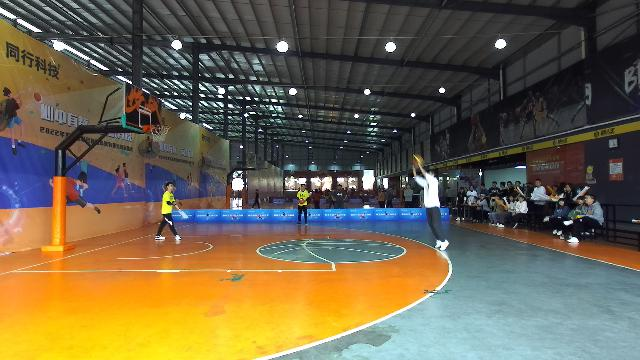ball: (413, 155, 423, 165), (298, 198, 304, 202)
basket: (150, 124, 170, 142)
